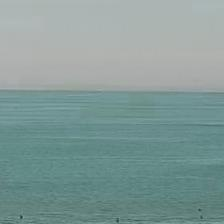surfer: (19, 214, 24, 219), (115, 218, 120, 223), (200, 216, 204, 219), (198, 208, 202, 211)
